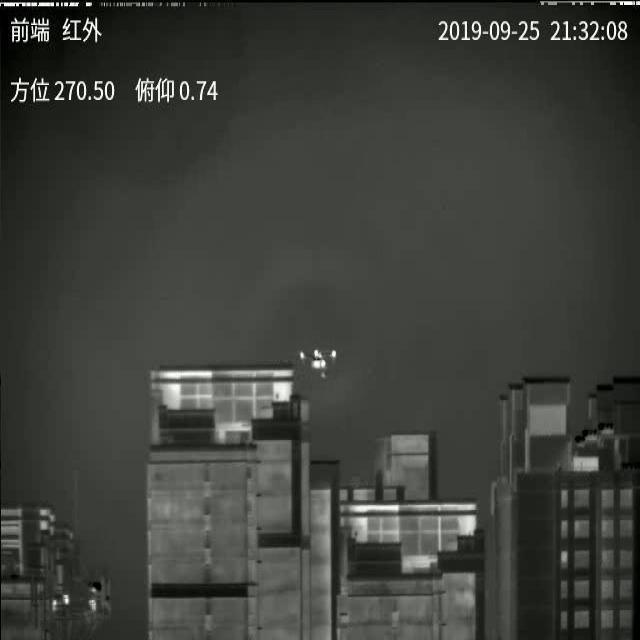drone: (299, 349, 337, 379)
